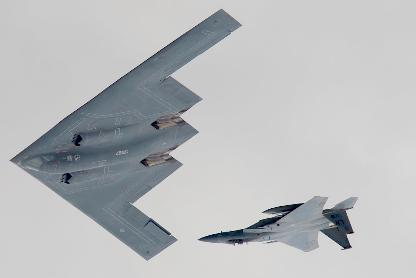B1: (9, 7, 243, 261)
F117: (198, 196, 360, 252)
